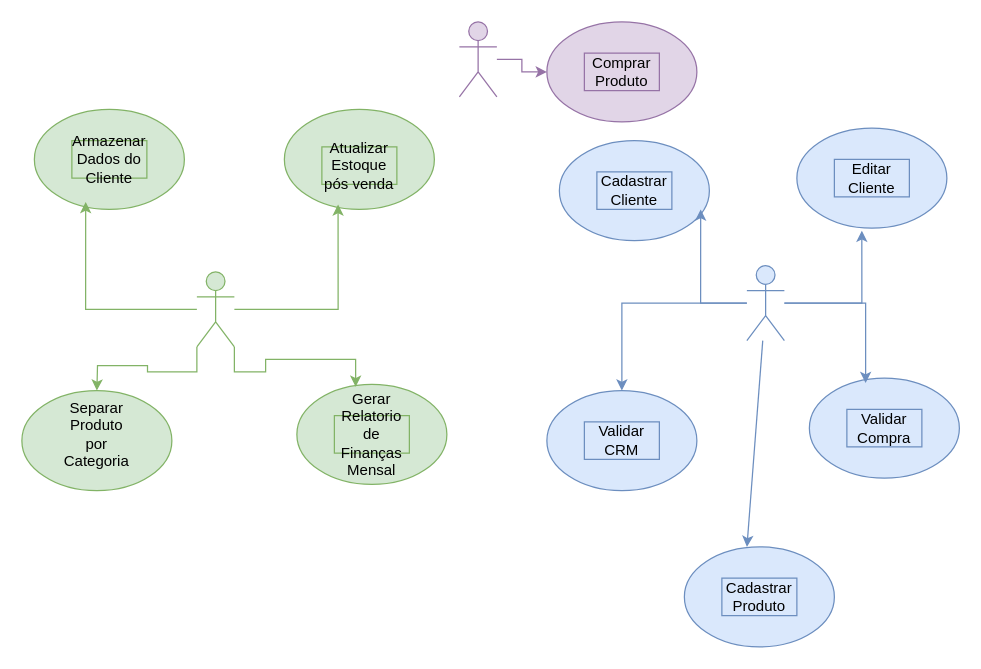
The diagram is 981 pixels wide and 669 high, and some of its shapes have lost their labels. Each missing label, with the centre of its shape:
"Atendente" belongs at [765,302].
"Cliente" belongs at [477,59].
"Sistema" belongs at [215,309].
